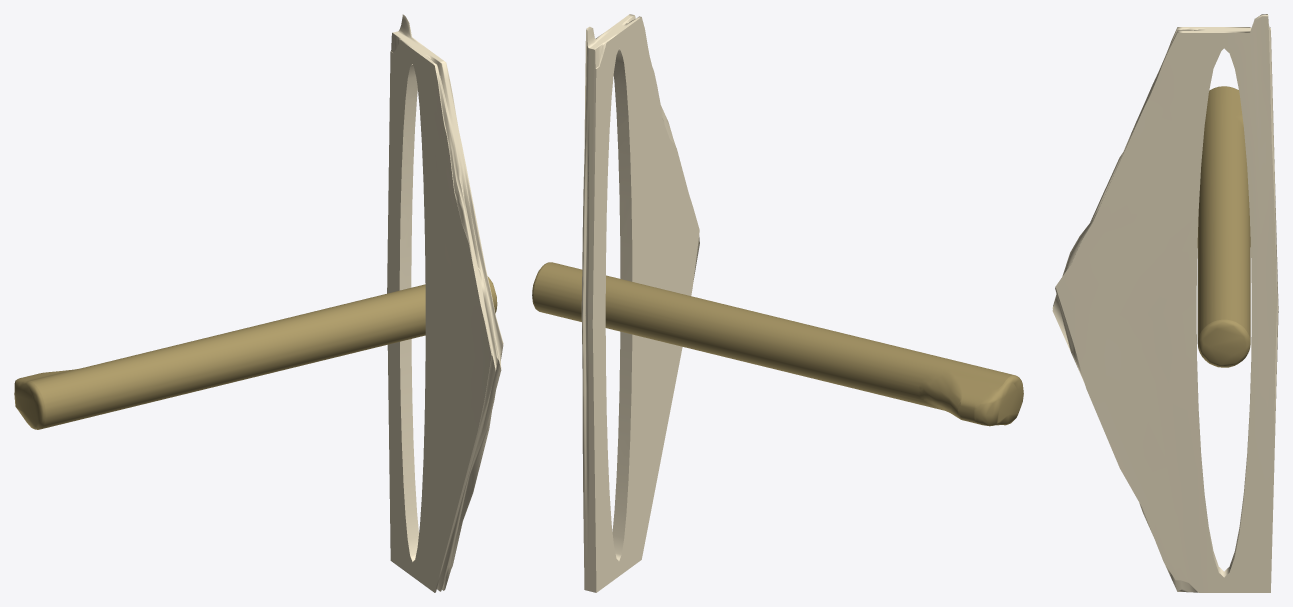
The model's file is Axe.fbx.
3 renders of one model, left to right at view 1: azimuth 30°, elevation 25°; view 2: azimuth 150°, elevation 25°; view 3: azimuth 270°, elevation 25°, orthographic. The views are drawn at different scales.
Parts seen in each view (by area): view 1: Blade, Axe; view 2: Blade, Axe; view 3: Blade, Axe.
Part boxes in pixels (x1=…): Blade: x1=387, y1=14, x2=503, y2=592; Axe: x1=14, y1=276, x2=497, y2=429; Blade: x1=581, y1=14, x2=699, y2=592; Axe: x1=532, y1=262, x2=1023, y2=426; Blade: x1=1052, y1=14, x2=1278, y2=592; Axe: x1=1197, y1=86, x2=1250, y2=367.
Size of the model in its own units: 1056 by 1202 by 426.
